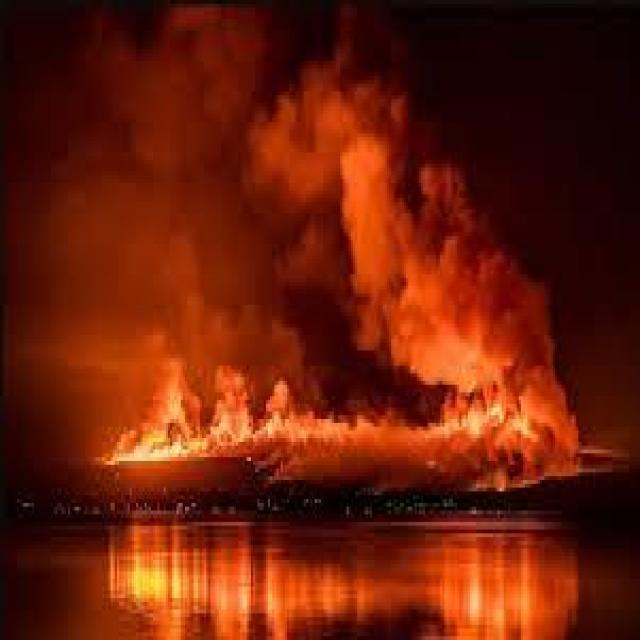Fire: (123, 356, 318, 469), (444, 397, 584, 482)
Smoke: (29, 13, 577, 376)
